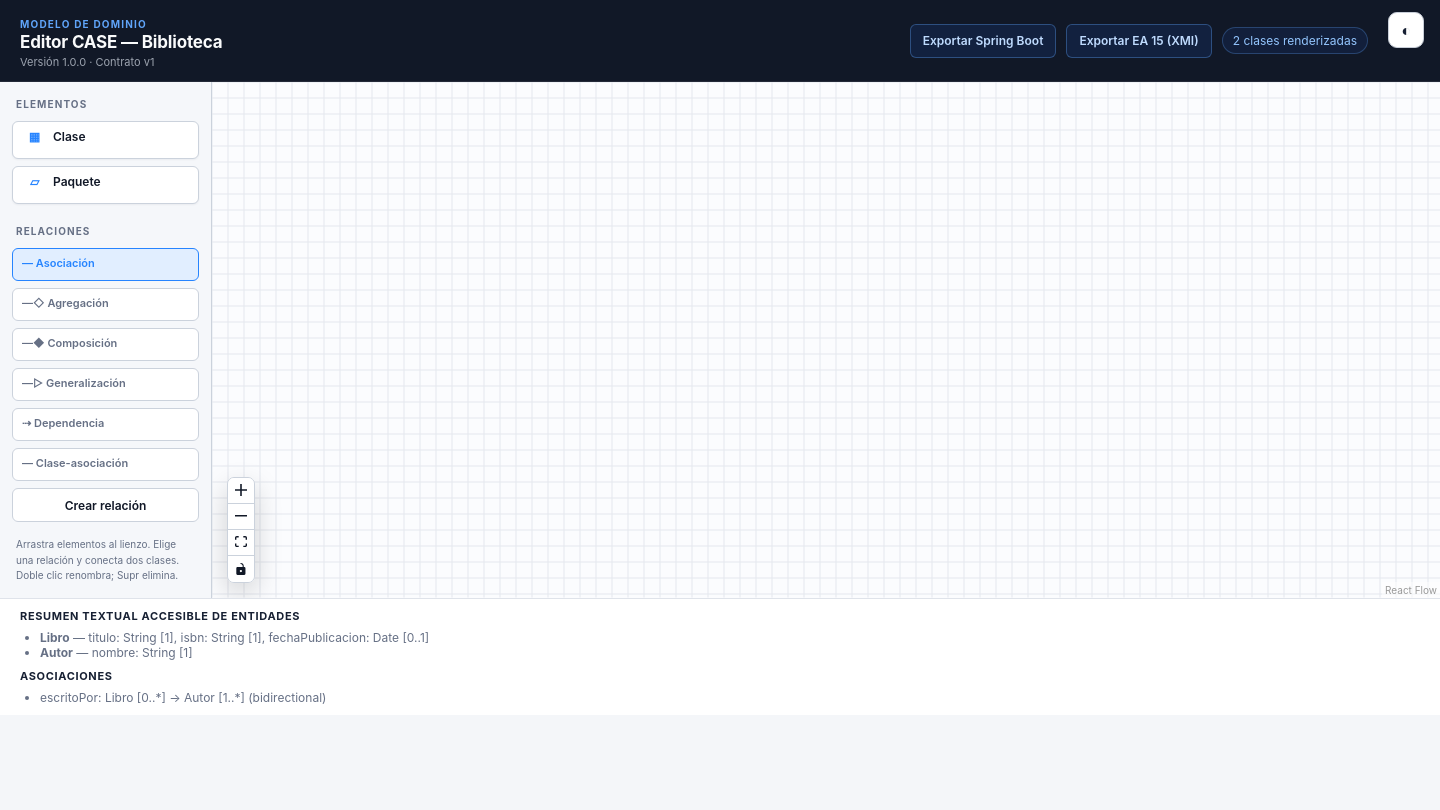
Test: CaseWeb Visual Association Commands (P4-005) › rechaza la creación cuando origen y destino son la misma clase y no muta el estado
Click the button with test id "btn-add-association". click: (106, 505)
box: [12,488,199,522]
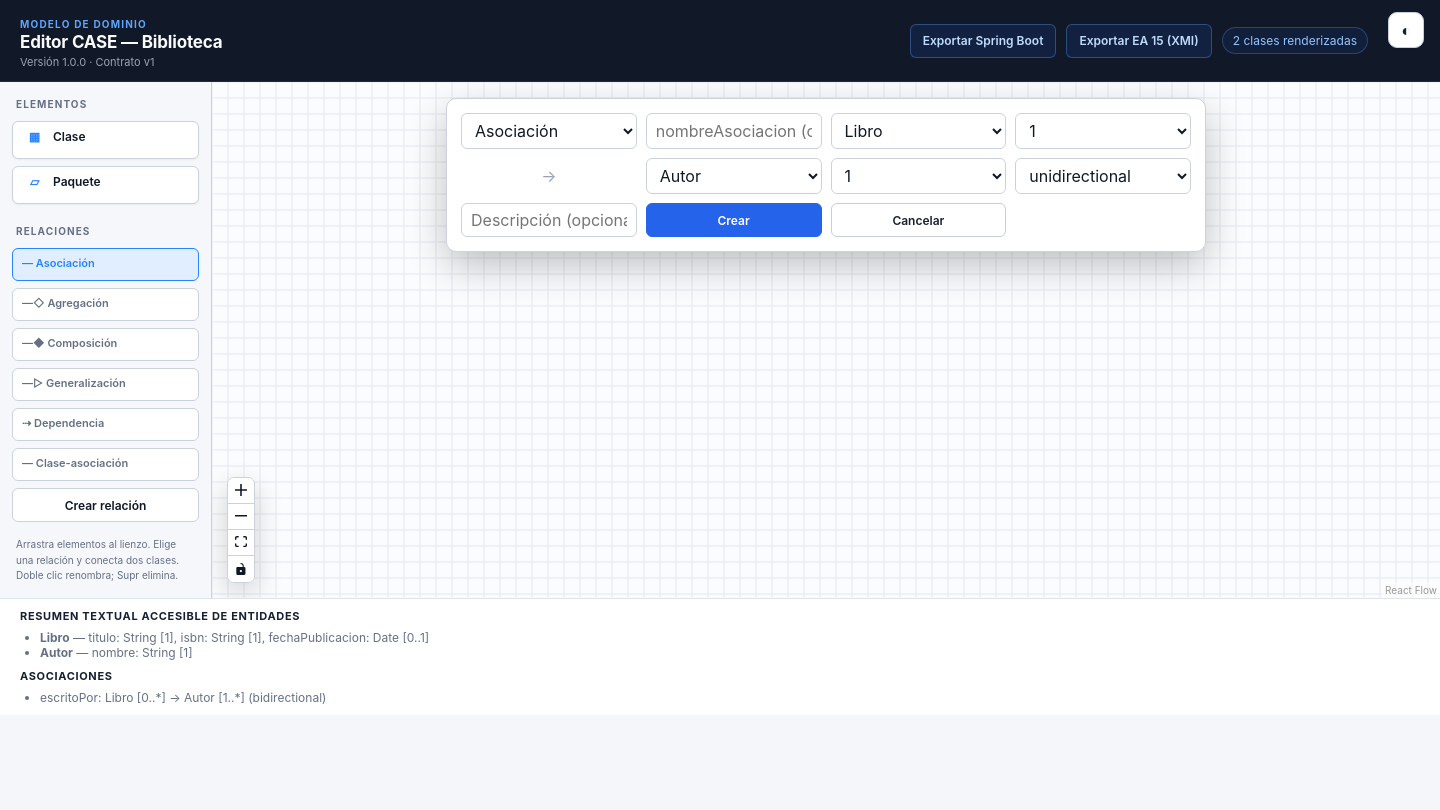
Select "Libro" in the dropdown with test id "assoc-source-select". click: (918, 131)
box: [830,113,1006,149]
Select "Libro" in the dropdown with test id "assoc-target-select". click: (734, 176)
box: [646,158,822,194]
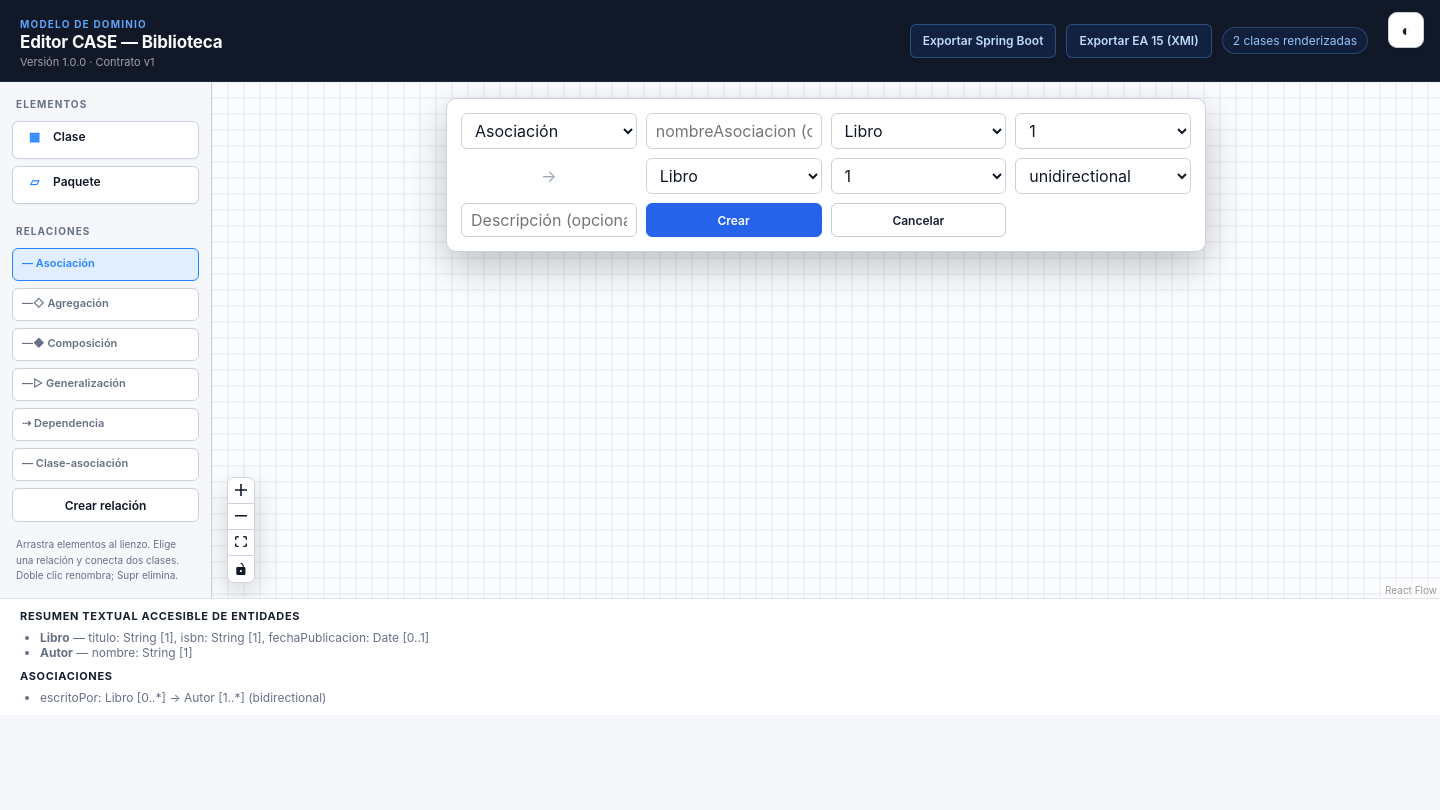
Click the button with test id "confirm-add-association". click: (734, 220)
box: [646,203,822,237]
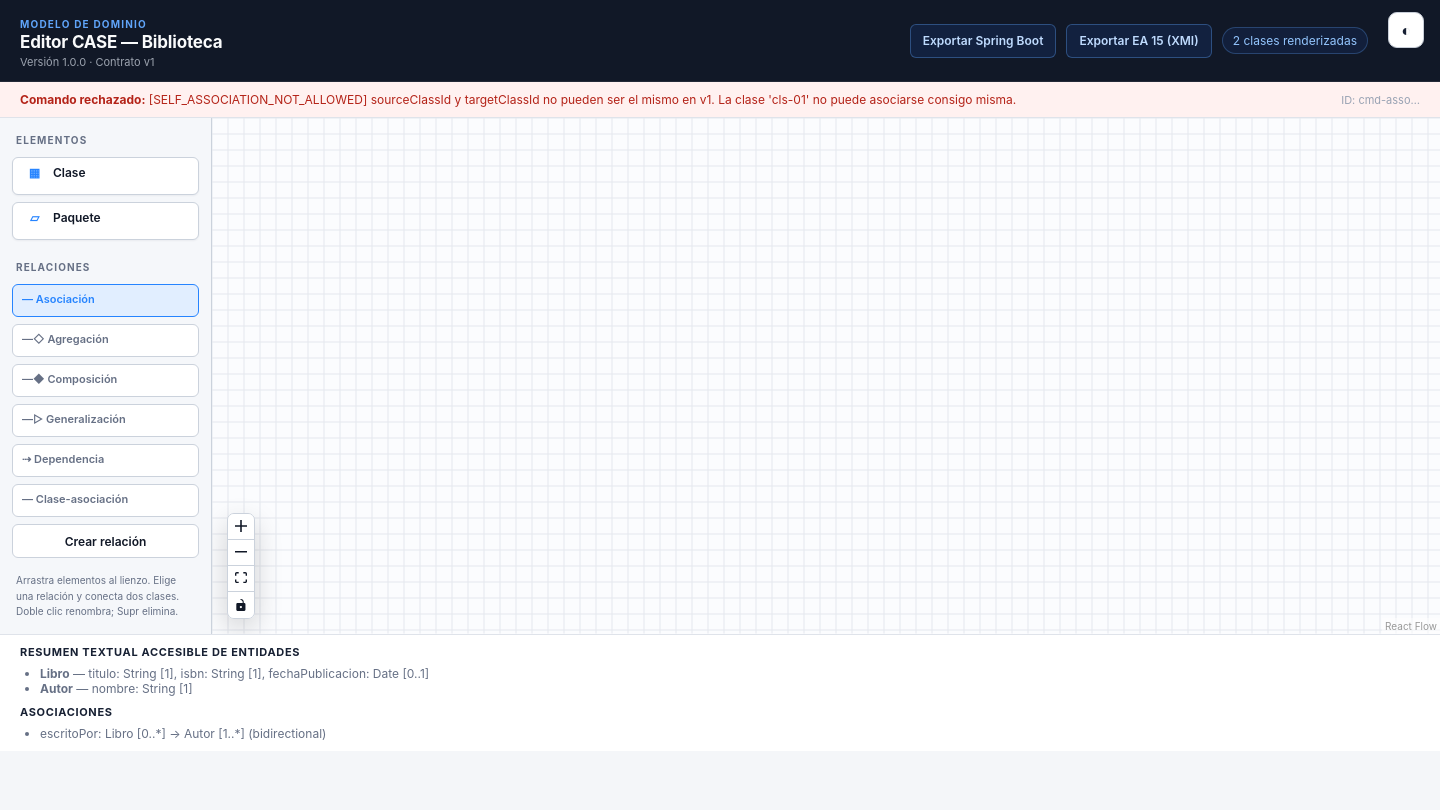
Expected: the element with test id "command-result-banner" shows "Comando rechazado", [0,82,1439,118]
Expected: the element with test id "command-result-banner" shows "SELF_ASSOCIATION_NOT_ALLOWED", [149,92,1016,107]
